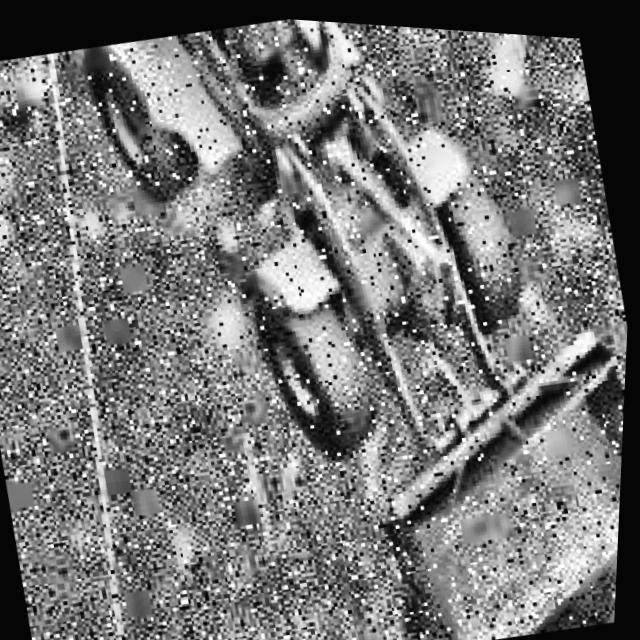buldozerpayloadergrader: (41, 3, 640, 640)
